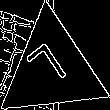L_SE: (26, 40, 77, 99)
